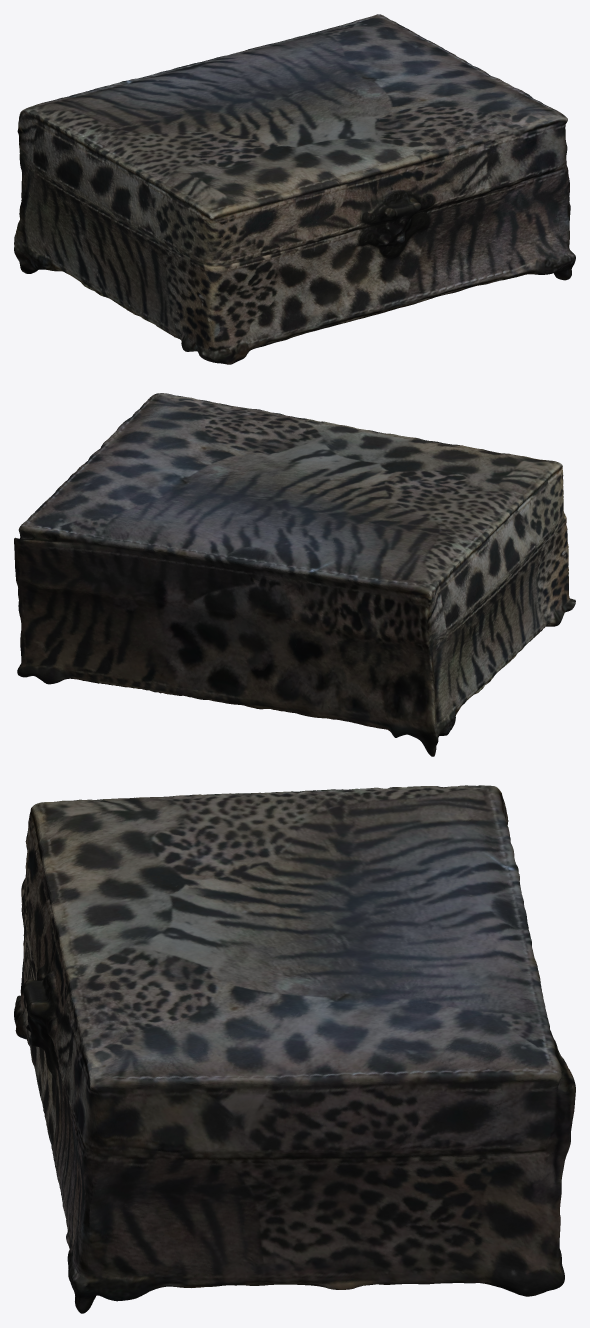
File: Box-cleaned.glb
The picture shows the model from 3 angles, top to bottom: view 1: azimuth 30°, elevation 25°; view 2: azimuth 150°, elevation 25°; view 3: azimuth 270°, elevation 25°; orthographic projection. The views are drawn at different scales.
Bounding box in the file's own units: 0.4109 × 0.1635 × 0.3276.
2 materials, 1 textured.
